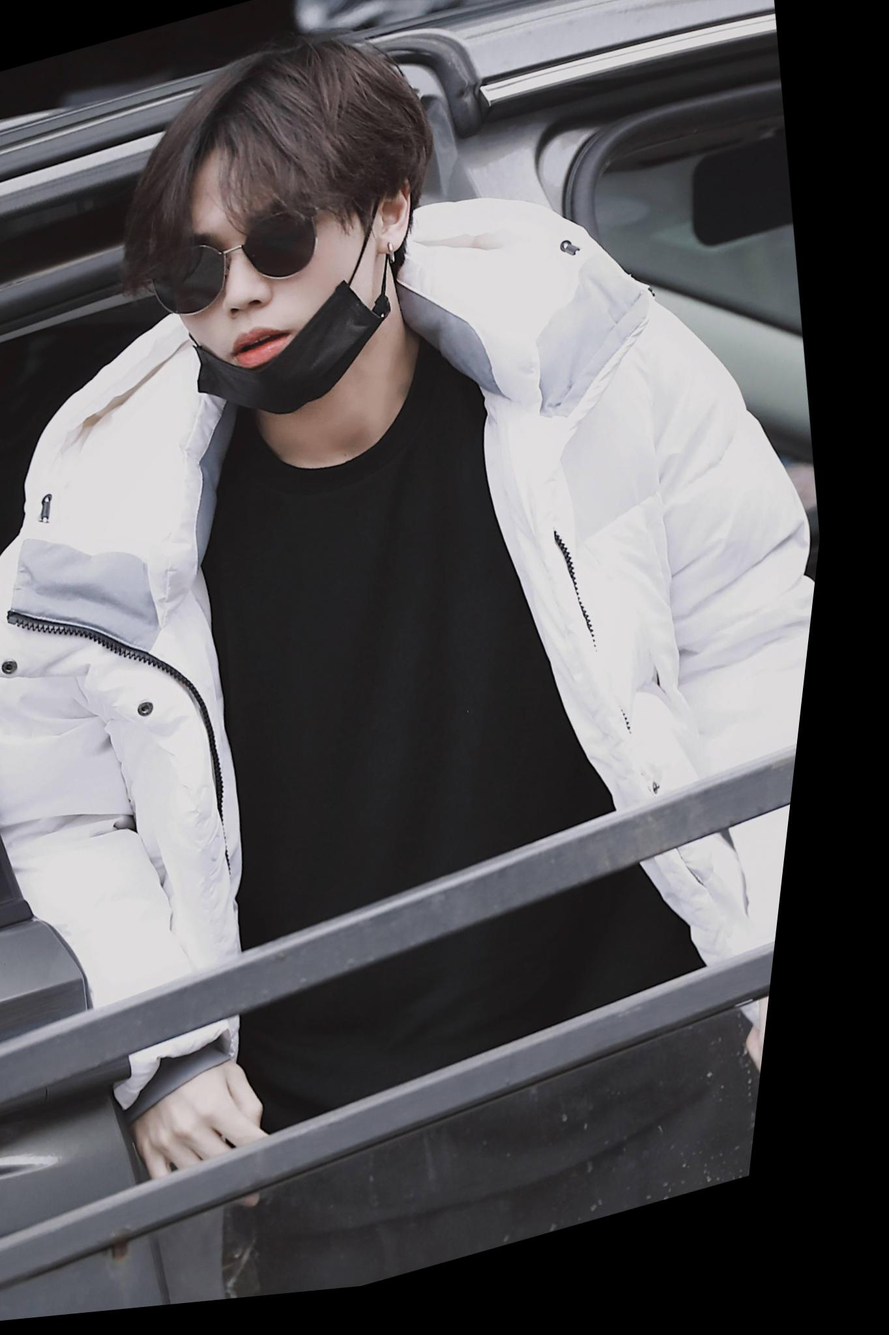WRONG: (151, 138, 409, 435)
